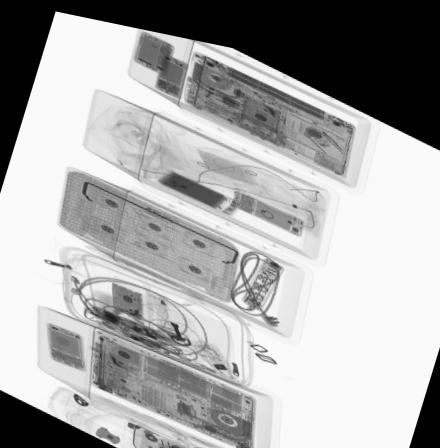Powerbank: (154, 161, 243, 206)
